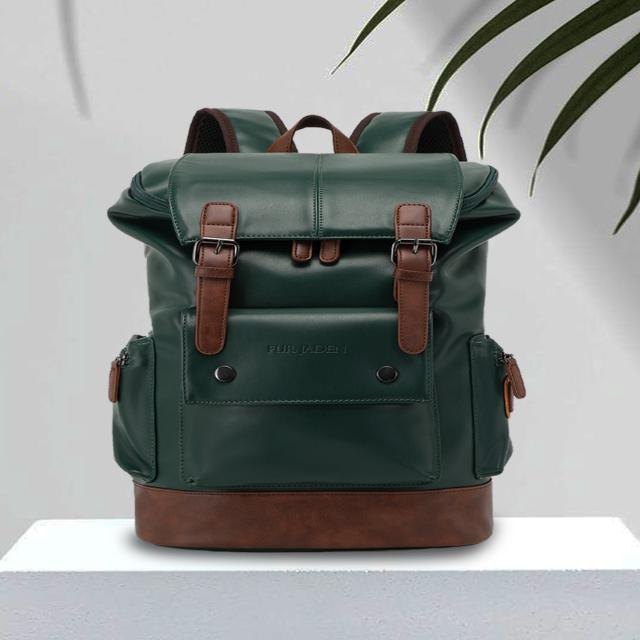backpack: (107, 108, 527, 552)
